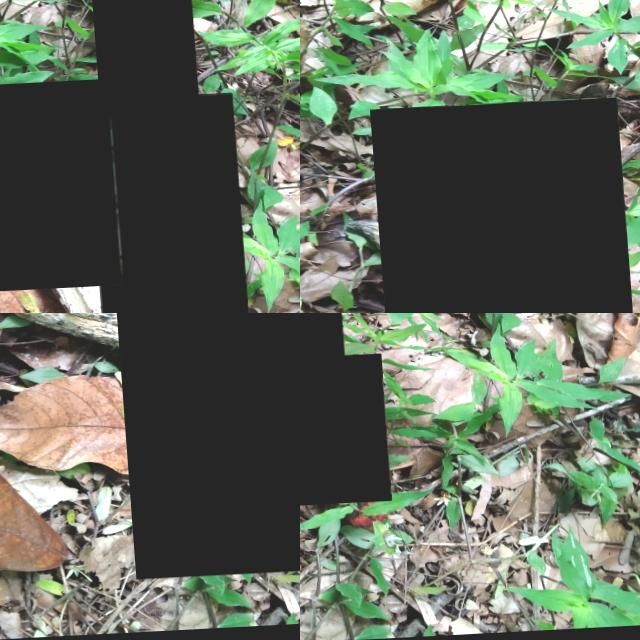Fitoftora: (82, 97, 241, 313)
Monilia: (105, 313, 300, 581), (0, 82, 116, 299), (300, 357, 384, 509)
Sana: (367, 100, 634, 313), (87, 0, 196, 119)
